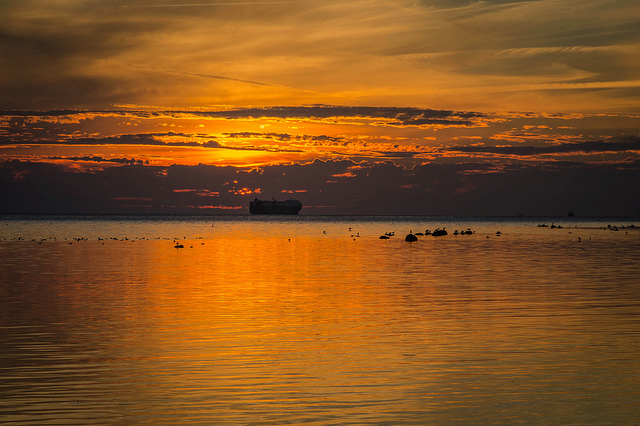PCC: (247, 190, 304, 222)
